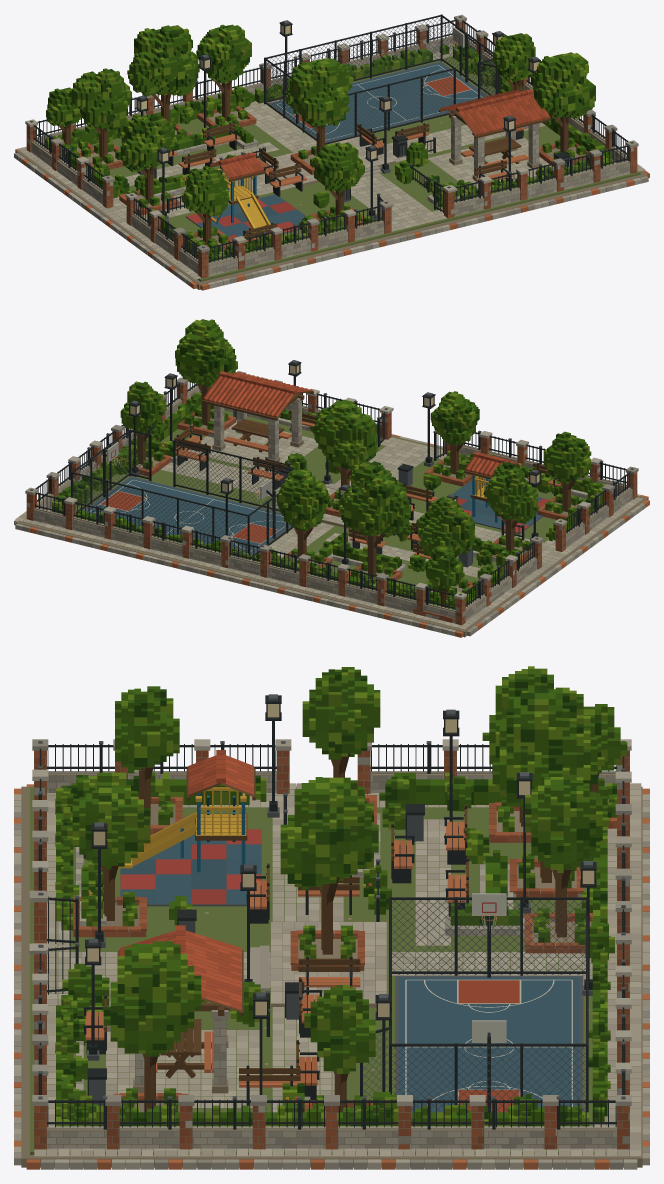
Rendered from SM_StreetFrontage_120.fbx.
The picture shows the model from 3 angles, top to bottom: view 1: azimuth 30°, elevation 25°; view 2: azimuth 150°, elevation 25°; view 3: azimuth 270°, elevation 25°; orthographic projection. The views are drawn at different scales.
Visible parts, largest first — view 1: SM_StreetFrontage_120; view 2: SM_StreetFrontage_120; view 3: SM_StreetFrontage_120.
Boxes of the visible parts, x1,y1,x2,y2 form: SM_StreetFrontage_120: [14, 14, 649, 290]; SM_StreetFrontage_120: [14, 319, 649, 637]; SM_StreetFrontage_120: [14, 666, 649, 1169].
Bounding box in the file's own units: 80 × 56.85 × 19.9.
